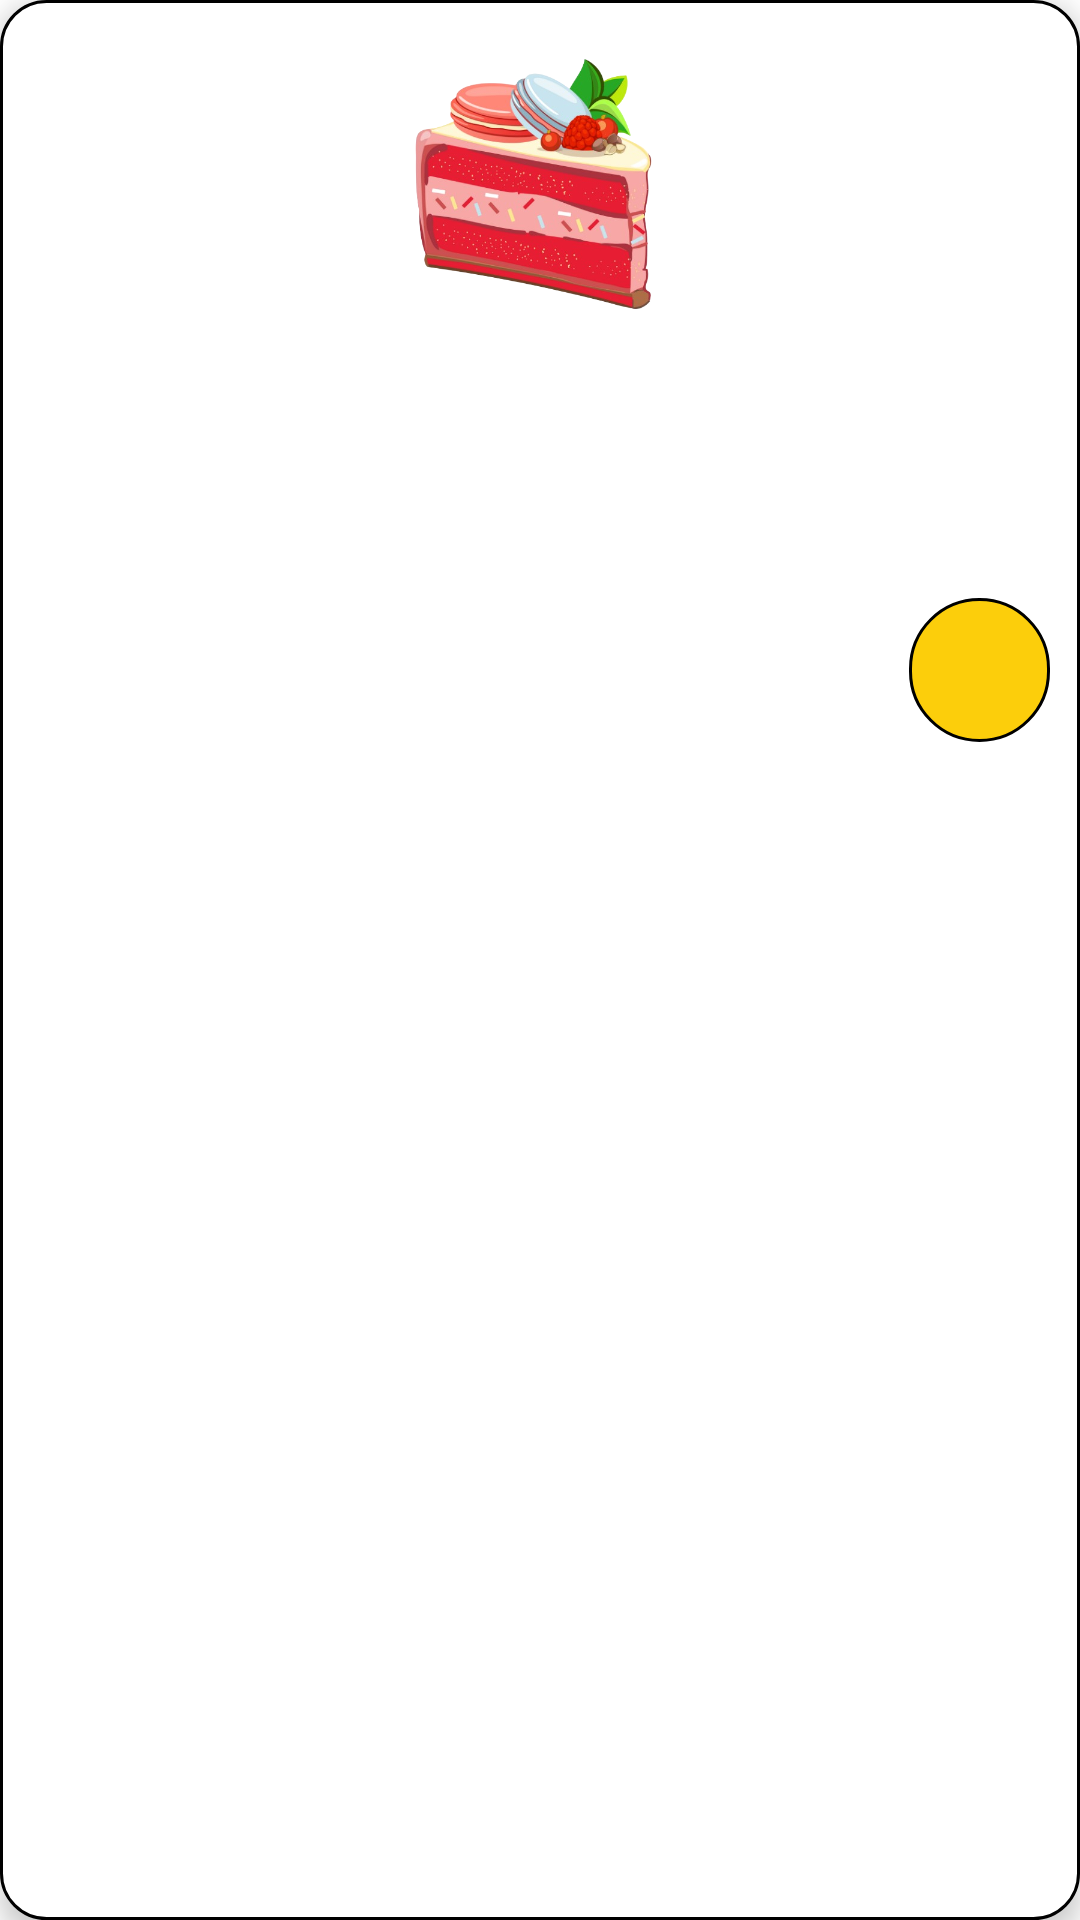

Icons on this 1080px×1920px Android screen, each with its box as (x1, y1, x2, y2):
patesry: (416, 59, 651, 309)
